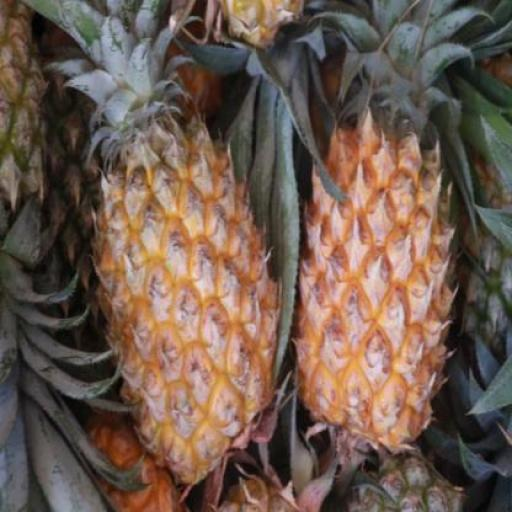Pineapple - v8 v1: (86, 118, 280, 478), (296, 128, 452, 464)
